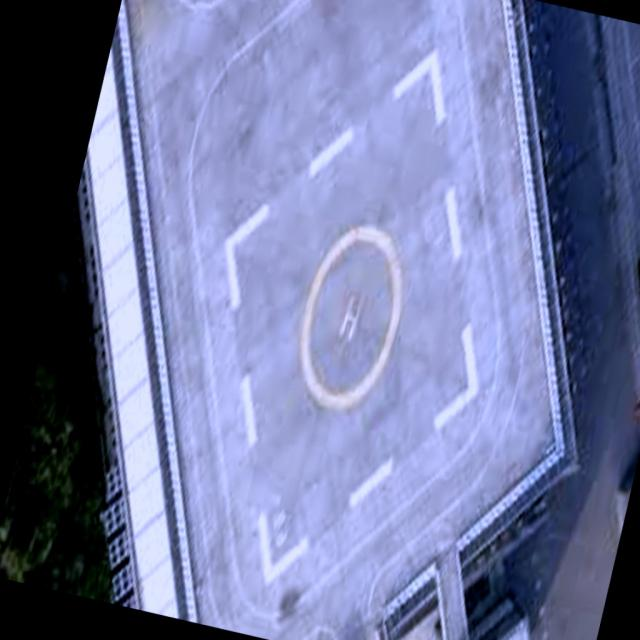helipad: (294, 219, 407, 414)
